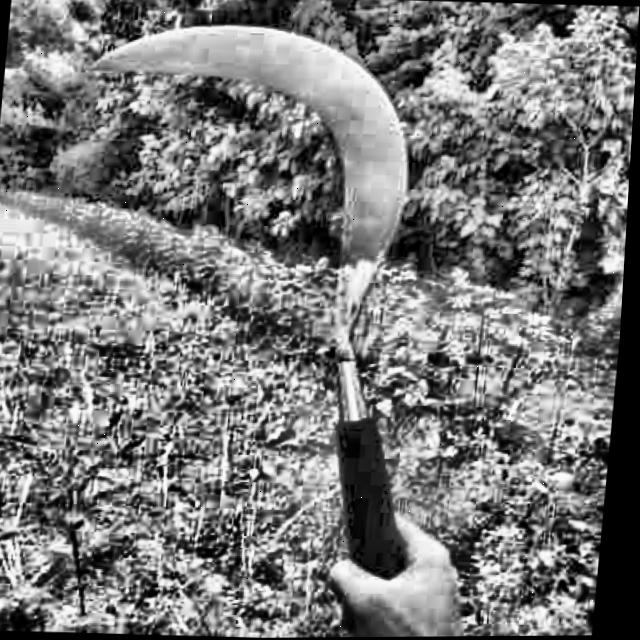celurit: (81, 16, 459, 637)
